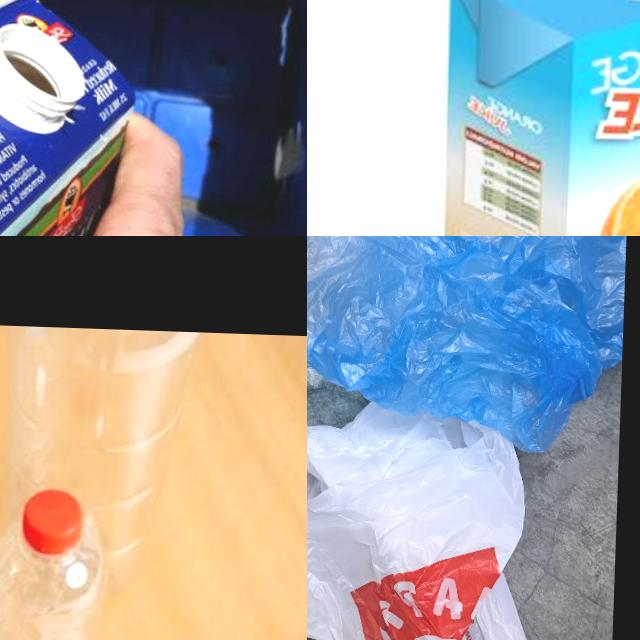caixinha: (433, 0, 640, 236), (0, 0, 139, 236)
garrafa plástica: (10, 326, 204, 600), (0, 520, 102, 640)
sacola plástica: (307, 379, 584, 640), (307, 236, 632, 455)
tampa plástica: (21, 486, 82, 554)
